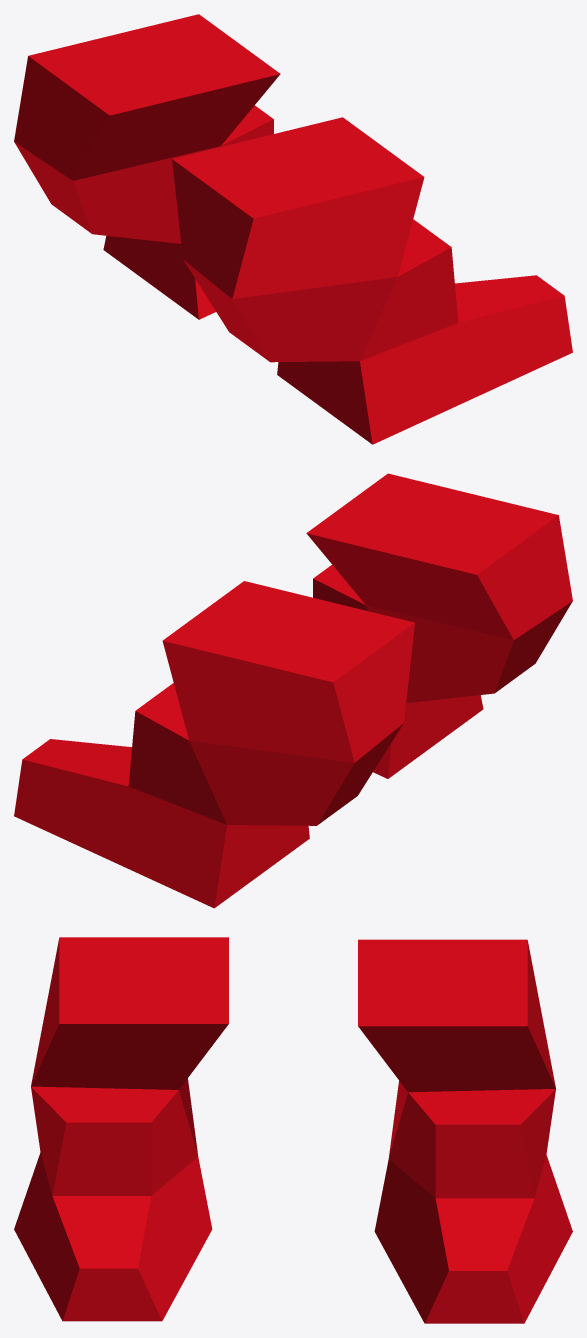
File: accesorio02.fbx
3 views of the same model, one above another, from view 1: azimuth 30°, elevation 25°; view 2: azimuth 150°, elevation 25°; view 3: azimuth 270°, elevation 25° (orthographic). The views are drawn at different scales.
Visible parts, largest first — view 1: Cube.001, Cube; view 2: Cube, Cube.001; view 3: Cube, Cube.001.
Part boxes in pixels (<box>): Cube.001: <box>172,117,572,444</box>; Cube: <box>14,14,280,319</box>; Cube: <box>14,581,414,908</box>; Cube.001: <box>306,473,572,778</box>; Cube: <box>358,939,572,1323</box>; Cube.001: <box>14,937,228,1321</box>.
Bounding box in the file's own units: 8.56 × 5.7 × 11.79.
